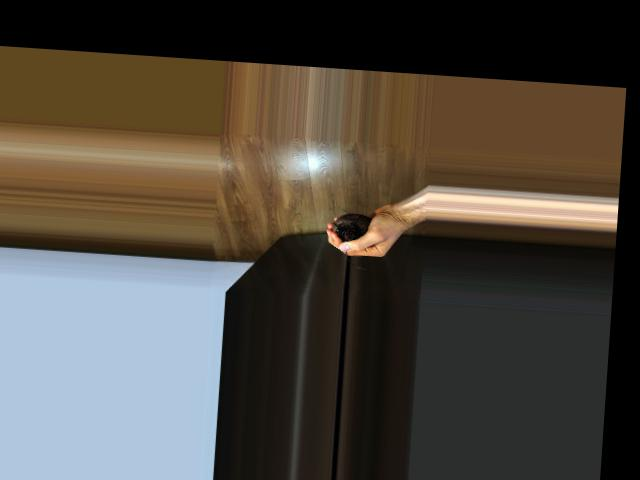beet: (328, 211, 371, 270)
